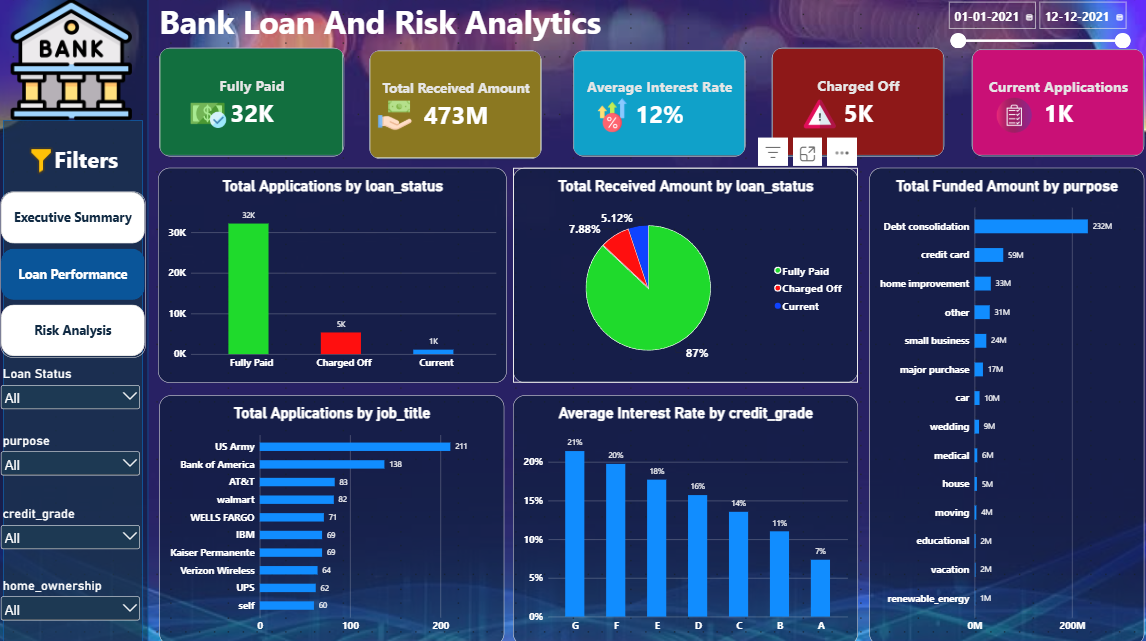

Layout of this report page (visuals, bound fields, positions):
{"tool":"powerbi","page":{"name":"Loan Performance","canvas":[1920,1080],"ordinal":1},"visuals":[{"type":"cardVisual","fields":{"Data":["Bank_Loan.Fully Paid"]},"box":[269.2,81.4,308.9,181.6],"z":0},{"type":"cardVisual","fields":{"Data":["Bank_Loan.Total Received Amount"]},"box":[619.8,85.6,288,181.6],"z":1000},{"type":"cardVisual","fields":{"Data":["Bank_Loan.Current Applications"]},"box":[1625.7,83.5,288,179.5],"z":2000},{"type":"cardVisual","fields":{"Data":["Bank_Loan.Charged Off"]},"box":[1291.8,81.4,288,181.6],"z":3000},{"type":"cardVisual","fields":{"Data":["Bank_Loan.Average Interest Rate"]},"box":[960,85.6,288,177.4],"z":4000},{"type":"textbox","box":[268.4,0,938.2,80.7],"z":5000},{"type":"shape","box":[0,0,250.9,1080],"z":6000},{"type":"shape","box":[8.7,202.9,233.5,877.1],"z":7000},{"type":"slicer","fields":{"Values":["Bank_Loan.issue_date"]},"box":[1579.6,0,314.2,80.7],"z":8000},{"type":"clusteredColumnChart","fields":{"Category":["Bank_Loan.loan_status"],"Y":["Bank_Loan.Total Applications"]},"box":[267.1,281.7,582.3,359],"z":9000},{"type":"pieChart","fields":{"Category":["Bank_Loan.loan_status"],"Y":["Bank_Loan.Total Received Amount"]},"box":[859.8,281.7,576,359],"z":10000},{"type":"columnChart","fields":{"Category":["Bank_Loan.credit_grade"],"Y":["Bank_Loan.Average Interest Rate"]},"box":[859.8,661.6,576,417.4],"z":11000},{"type":"clusteredBarChart","fields":{"Category":["Bank_Loan.purpose"],"Y":["Bank_Loan.Total Funded Amount"]},"box":[1454.6,281.7,459.1,797.2],"z":12000},{"type":"clusteredBarChart","fields":{"Category":["Bank_Loan.job_title"],"Y":["Bank_Loan.Total Applications"]},"box":[269.2,661.6,576,417.4],"z":13000},{"type":"slicer","fields":{"Values":["Bank_Loan.loan_status"]},"box":[0,613.6,242.2,82.9],"z":14000},{"type":"slicer","fields":{"Values":["Bank_Loan.purpose"]},"box":[0,724.2,242.2,122.2],"z":15000},{"type":"slicer","fields":{"Values":["Bank_Loan.credit_grade"]},"box":[0,847.3,242.1,119],"z":16000},{"type":"slicer","fields":{"Values":["Bank_Loan.home_ownership"]},"box":[0,966.3,242.1,96],"z":17000},{"type":"pageNavigator","box":[4.2,321.4,242.1,277.6],"z":18000},{"type":"image","box":[8.3,0,227.5,202.4],"z":19000},{"type":"textbox","box":[93.9,242.1,123.1,50.1],"z":20000},{"type":"image","box":[18.8,244.2,106.4,52.2],"z":21000},{"type":"image","box":[294.3,158.6,110.6,64.7],"z":22000},{"type":"image","box":[578.1,164.9,169,58.4],"z":23000},{"type":"image","box":[978.8,164.9,93.9,58.4],"z":24000},{"type":"image","box":[1329.4,164.9,85.6,54.3],"z":25000},{"type":"image","box":[1657,164.9,79.3,58.4],"z":26000}]}

Visuals, with their boxes in screenshot pixels (x1, y1, x2, y2), scaled from the page's 1920x1080 canvas onto the 1146x641 screenshot:
cardVisual - Bank_Loan.Fully Paid: crop(161, 48, 345, 156)
cardVisual - Bank_Loan.Total Received Amount: crop(370, 51, 542, 159)
cardVisual - Bank_Loan.Current Applications: crop(970, 50, 1142, 156)
cardVisual - Bank_Loan.Charged Off: crop(771, 48, 943, 156)
cardVisual - Bank_Loan.Average Interest Rate: crop(573, 51, 745, 156)
textbox: crop(160, 0, 720, 48)
shape: crop(0, 0, 150, 640)
shape: crop(5, 120, 145, 640)
slicer - Bank_Loan.issue_date: crop(943, 0, 1130, 48)
clusteredColumnChart - Bank_Loan.loan_status x Bank_Loan.Total Applications: crop(159, 167, 507, 380)
pieChart - Bank_Loan.loan_status x Bank_Loan.Total Received Amount: crop(513, 167, 857, 380)
columnChart - Bank_Loan.credit_grade x Bank_Loan.Average Interest Rate: crop(513, 393, 857, 640)
clusteredBarChart - Bank_Loan.purpose x Bank_Loan.Total Funded Amount: crop(868, 167, 1142, 640)
clusteredBarChart - Bank_Loan.job_title x Bank_Loan.Total Applications: crop(161, 393, 504, 640)
slicer - Bank_Loan.loan_status: crop(0, 364, 145, 413)
slicer - Bank_Loan.purpose: crop(0, 430, 145, 502)
slicer - Bank_Loan.credit_grade: crop(0, 503, 145, 574)
slicer - Bank_Loan.home_ownership: crop(0, 574, 145, 630)
pageNavigator: crop(3, 191, 147, 356)
image: crop(5, 0, 141, 120)
textbox: crop(56, 144, 130, 173)
image: crop(11, 145, 75, 176)
image: crop(176, 94, 242, 133)
image: crop(345, 98, 446, 133)
image: crop(584, 98, 640, 133)
image: crop(793, 98, 845, 130)
image: crop(989, 98, 1036, 133)
